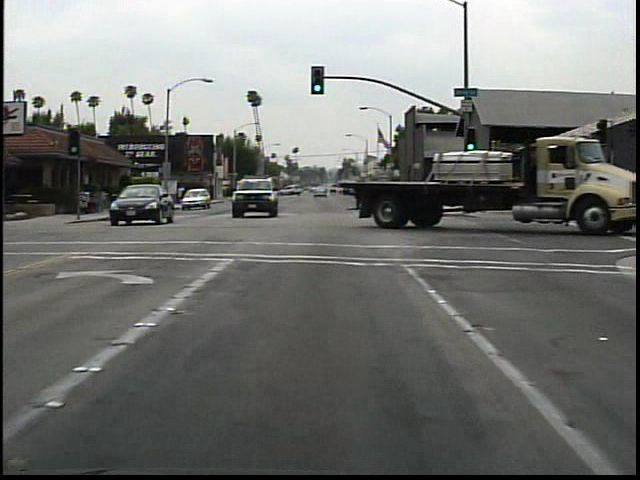person: (174, 182, 191, 206)
